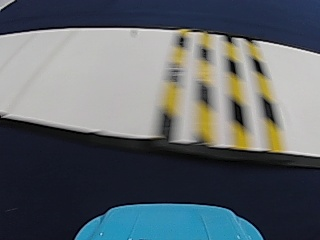bump: (150, 37, 285, 140)
